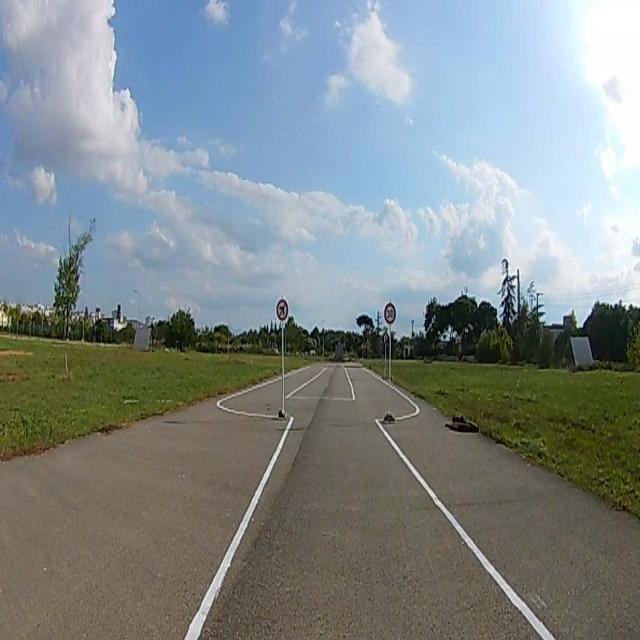30: (384, 304, 396, 324)
soladonulmez: (276, 299, 288, 320)
